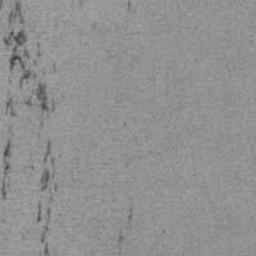Inclusion: (0, 0, 56, 131), (29, 140, 59, 192), (37, 201, 52, 256), (0, 137, 12, 202), (116, 207, 133, 244), (51, 60, 56, 73)
